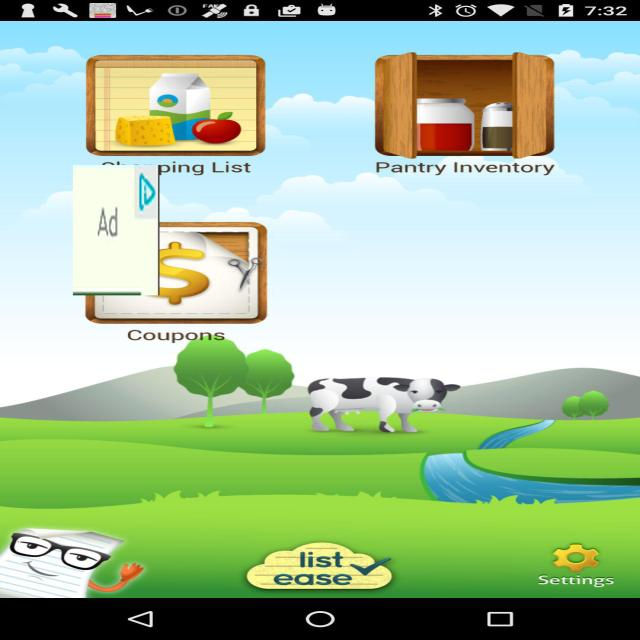sneaking: (73, 165, 159, 295)
